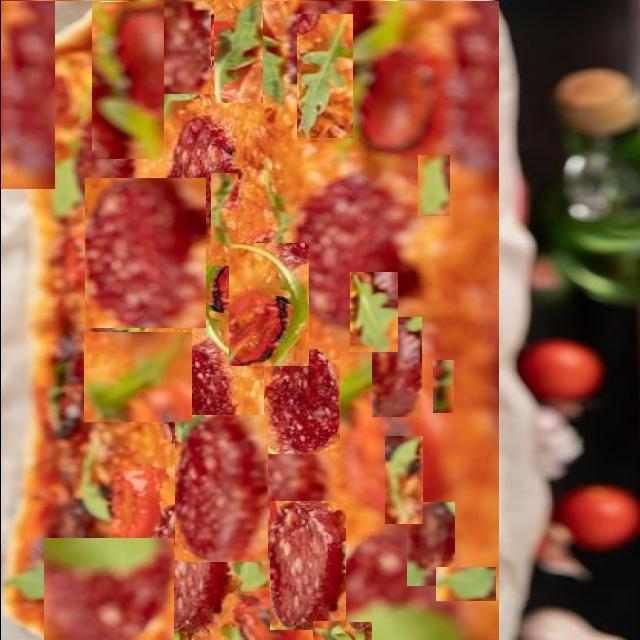basil: (91, 2, 163, 159), (228, 243, 308, 366), (83, 332, 191, 422), (84, 332, 187, 418), (296, 14, 352, 138), (213, 0, 262, 103), (42, 604, 154, 639), (349, 272, 397, 352), (384, 436, 422, 524), (210, 173, 237, 266), (229, 534, 272, 590), (435, 567, 495, 601), (417, 155, 449, 216), (430, 360, 452, 413), (312, 622, 371, 640)
pepperoni: (84, 178, 205, 328), (174, 416, 267, 564), (43, 538, 173, 640), (0, 1, 54, 189), (269, 502, 345, 632), (261, 117, 333, 236), (263, 349, 339, 454), (131, 0, 210, 94), (362, 116, 422, 216), (371, 317, 421, 417), (406, 502, 454, 586)
pizza: (0, 1, 498, 640)
